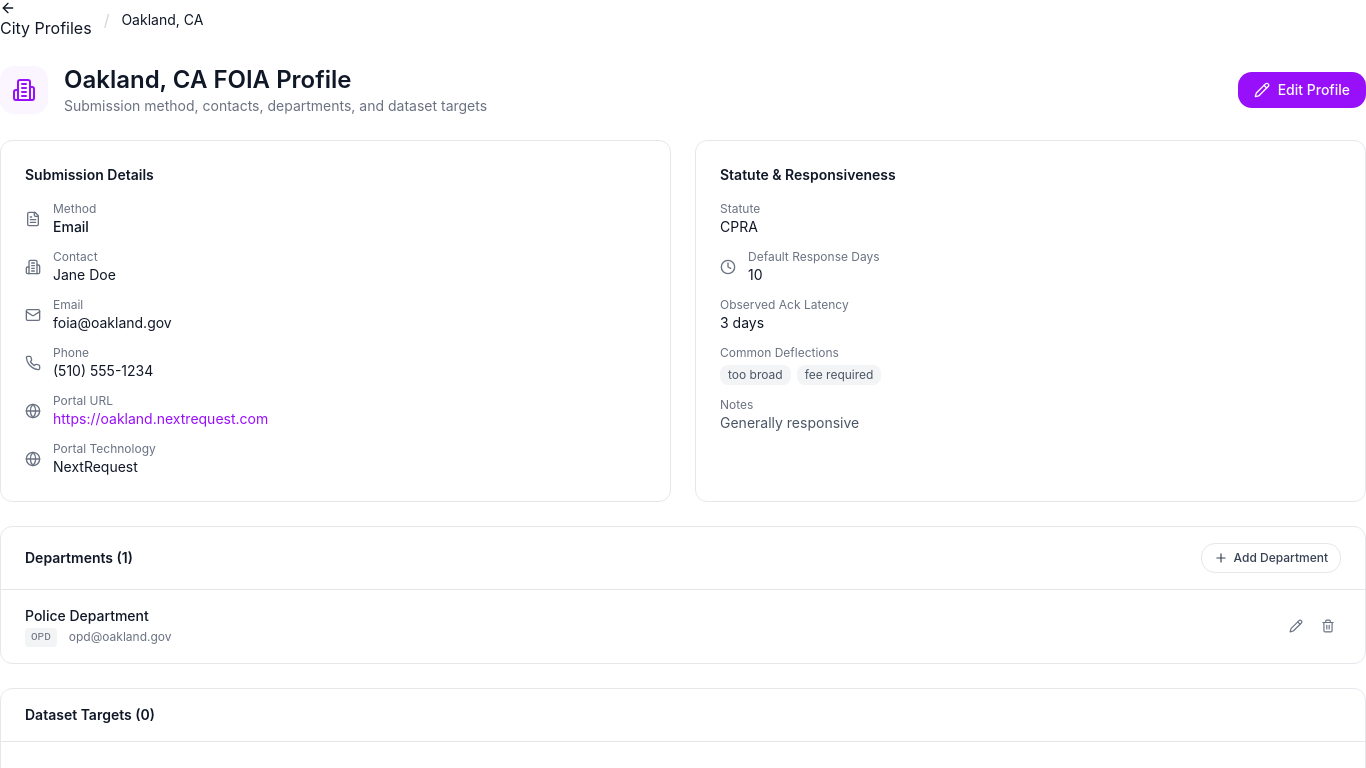
Test: CityProfileContent › opens confirm dialog when Delete department is clicked
Expected: the text "Police Department" is shown, [25,607,149,624]
Click the button named "Delete department": point(1328, 626) [1315,613,1341,639]
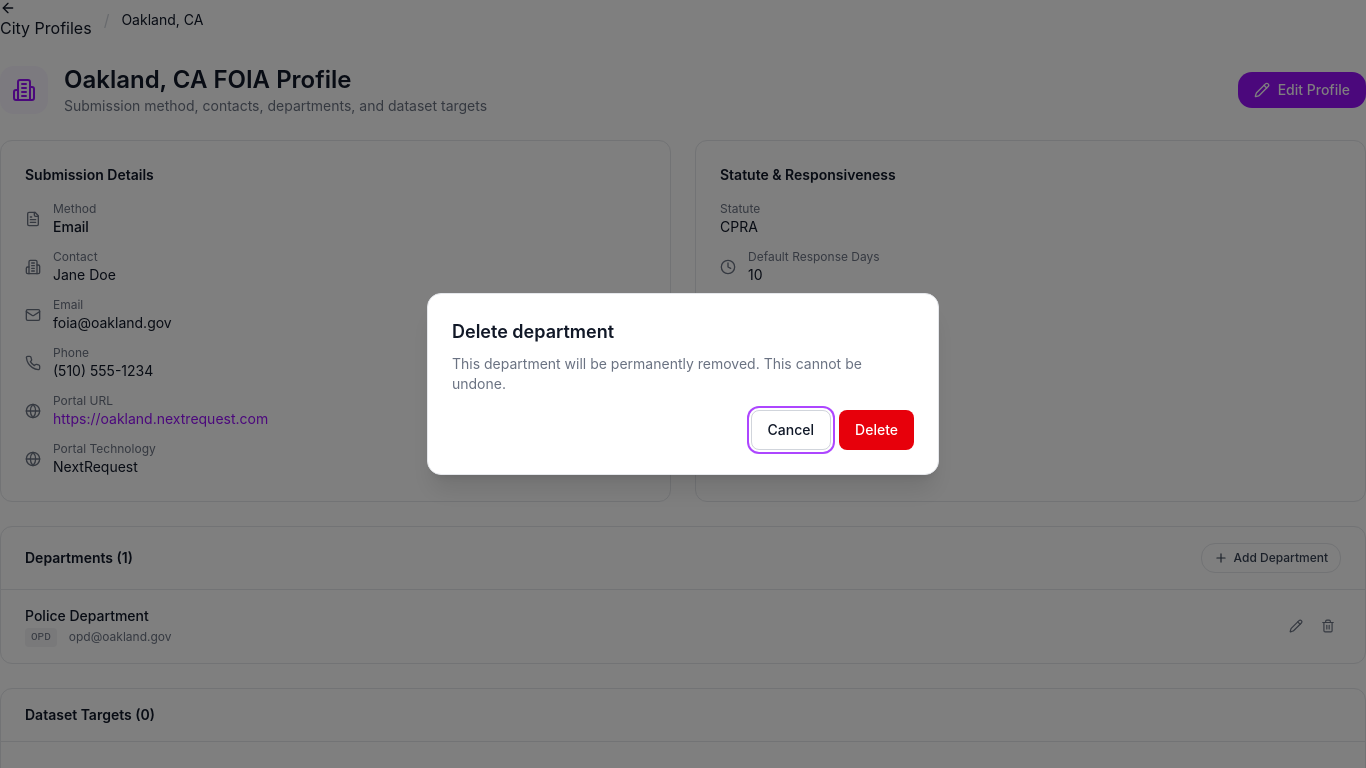
Expected: the heading "Delete department" is shown, [452,321,614,342]
Expected: the text "permanently removed" is shown, [452,355,862,392]
